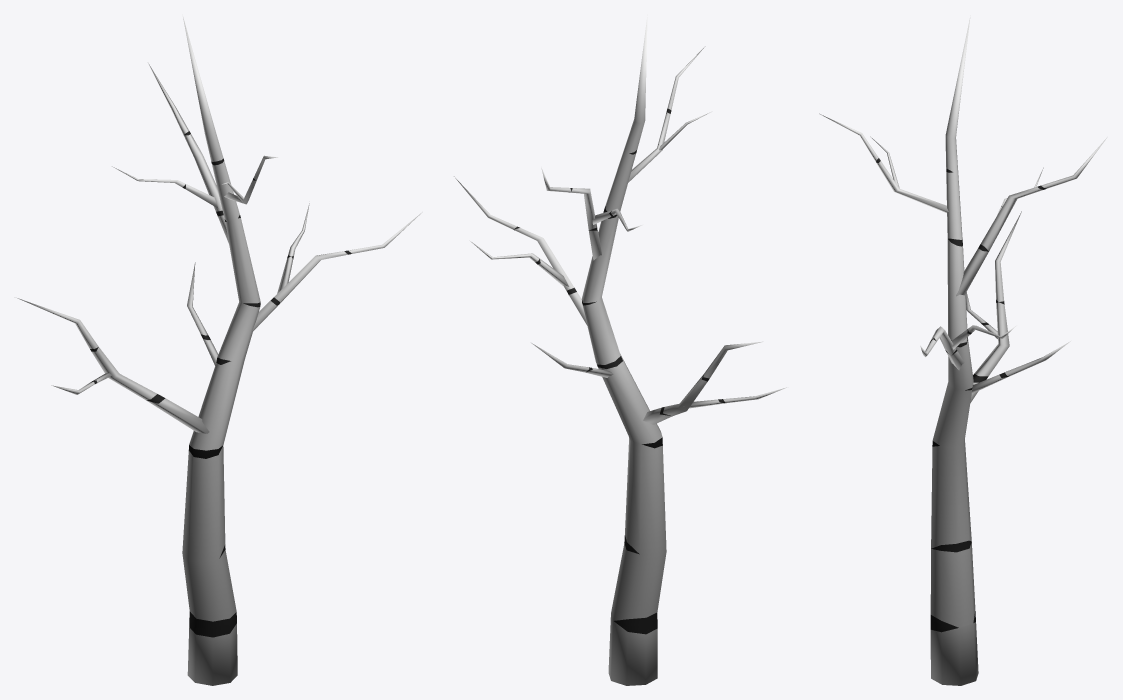
Rendered from birch8.glb.
3 views of the same model, side by side, from view 1: azimuth 30°, elevation 25°; view 2: azimuth 150°, elevation 25°; view 3: azimuth 270°, elevation 25° (orthographic). The views are drawn at different scales.
Visible parts, largest first — view 1: birch8; view 2: birch8; view 3: birch8.
Boxes of the visible parts, left/top/right/bottom form: birch8: left=17, top=17, right=422, bottom=685; birch8: left=454, top=14, right=786, bottom=685; birch8: left=819, top=15, right=1107, bottom=685.
Size of the model in its own units: 3.76 by 6.63 by 2.69.
Materials: 1 (1 with a texture image).
